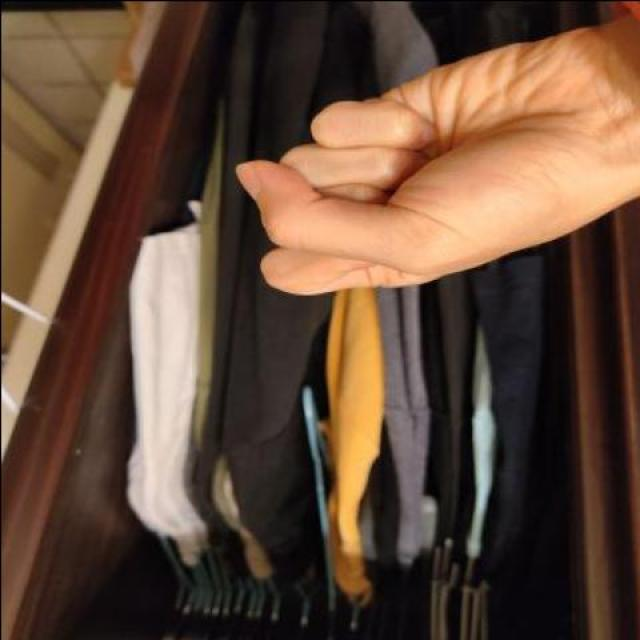fist: (233, 13, 639, 296)
